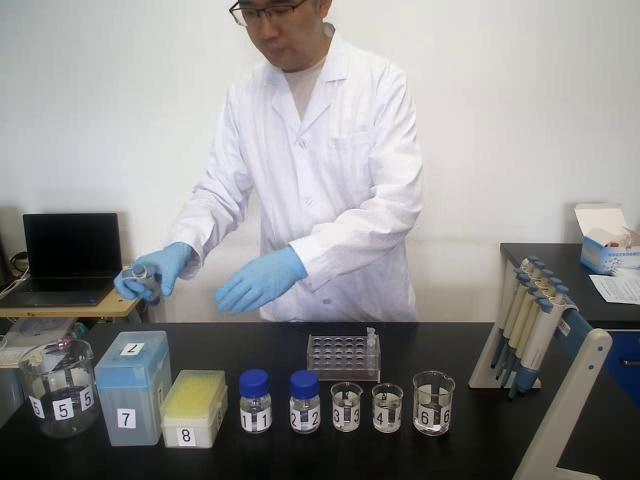Gloves: (214, 246, 307, 316), (113, 242, 191, 300)
Lab_coat: (228, 64, 417, 321)
